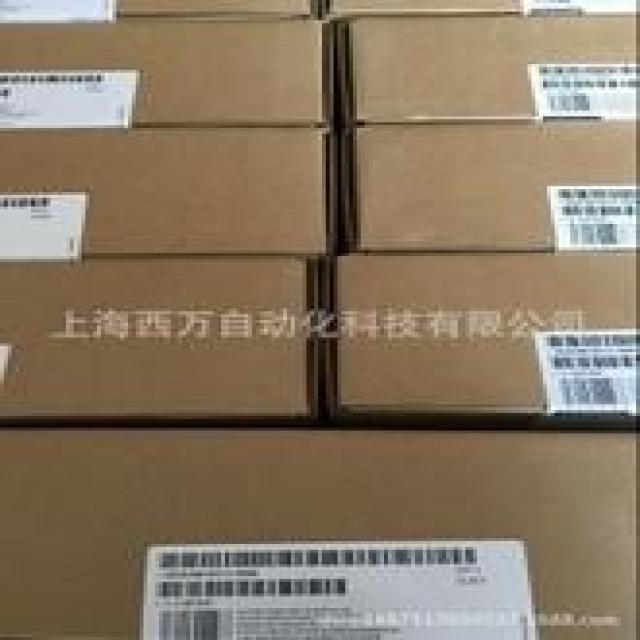box: (4, 427, 636, 637), (0, 255, 321, 422), (327, 250, 636, 413), (0, 125, 339, 265), (344, 122, 636, 251), (0, 19, 335, 128), (334, 12, 636, 125), (322, 1, 586, 20), (108, 1, 321, 19)
